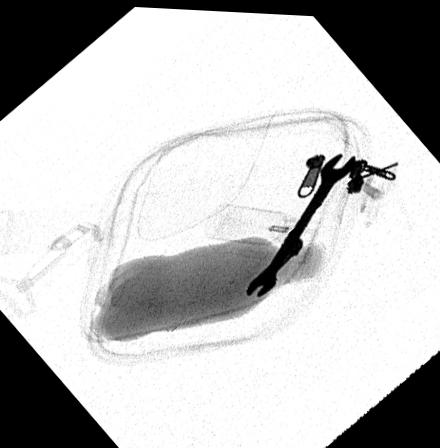Wrench: (246, 145, 356, 295)
